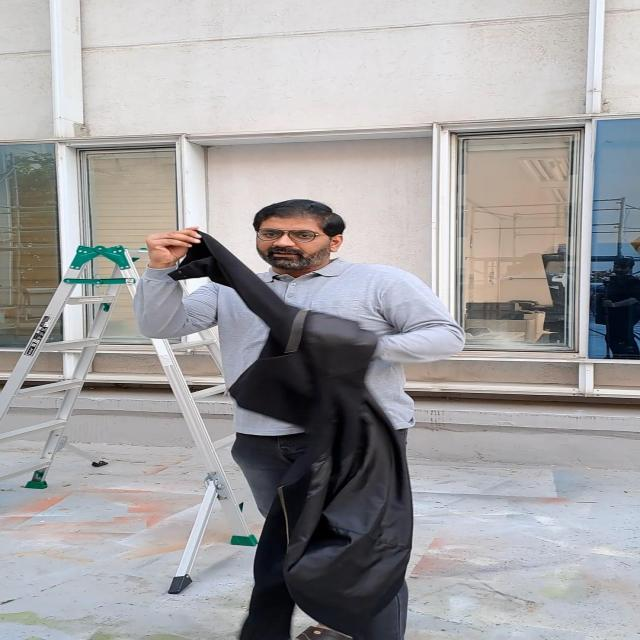boots: (0, 241, 408, 595)
vest: (132, 198, 468, 640)
